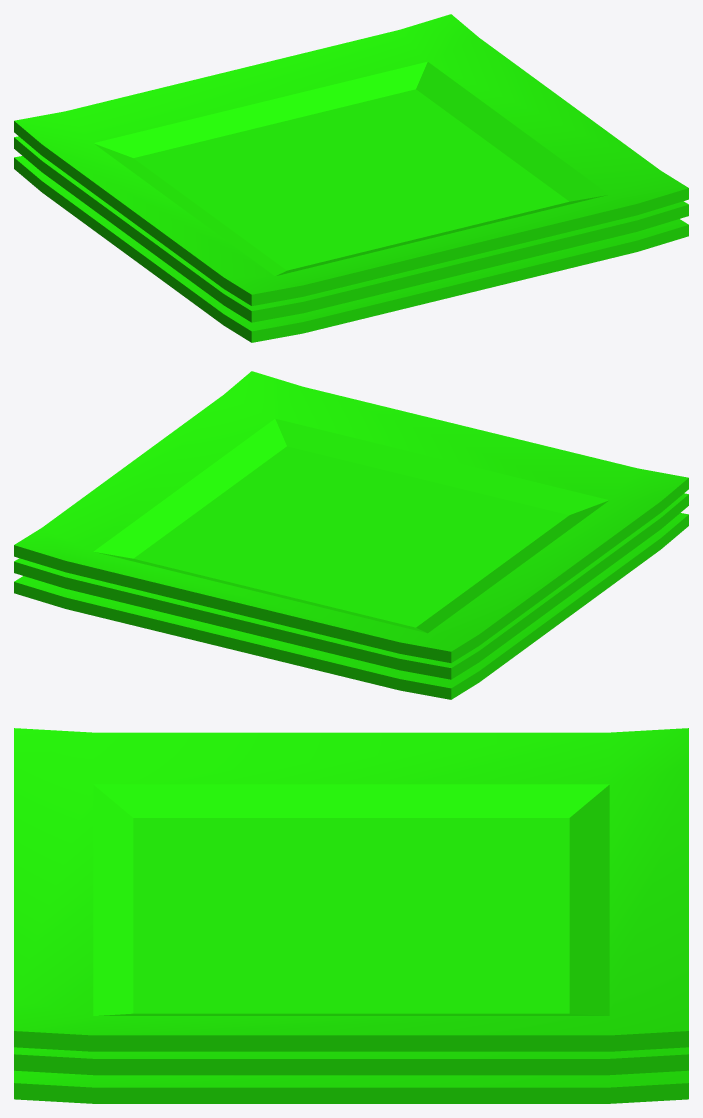
Rendered from umgebung_teller_stapel_low.FBX.
3 views of the same model, one above another, from view 1: azimuth 30°, elevation 25°; view 2: azimuth 150°, elevation 25°; view 3: azimuth 270°, elevation 25° (orthographic). The views are drawn at different scales.
Visible parts, largest first — view 1: i_teller_low (×2), o_teller_low; view 2: i_teller_low (×2), o_teller_low; view 3: i_teller_low (×2), o_teller_low.
Part boxes in pixels (x1,y1,x2,y2): i_teller_low (×2): (14, 14, 688, 322); o_teller_low: (14, 156, 688, 342); i_teller_low (×2): (14, 371, 688, 679); o_teller_low: (14, 513, 688, 699); i_teller_low (×2): (14, 728, 688, 1075); o_teller_low: (14, 1070, 688, 1103).
Size of the model in its own units: 65.75 by 61.92 by 10.59.
